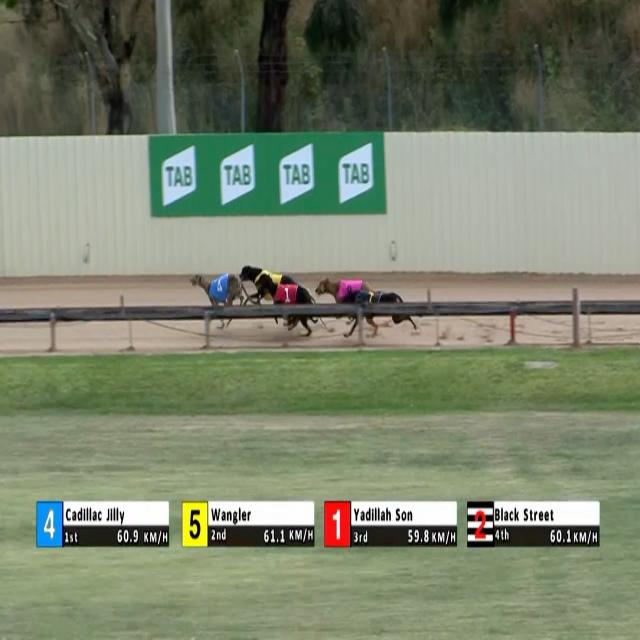dog_eight: (340, 280, 356, 304)
dog_five: (255, 269, 280, 298)
dog_four: (211, 274, 229, 301)
dog_one: (277, 282, 300, 311)
dog_seven: (365, 286, 379, 314)
rail: (0, 299, 640, 323)
